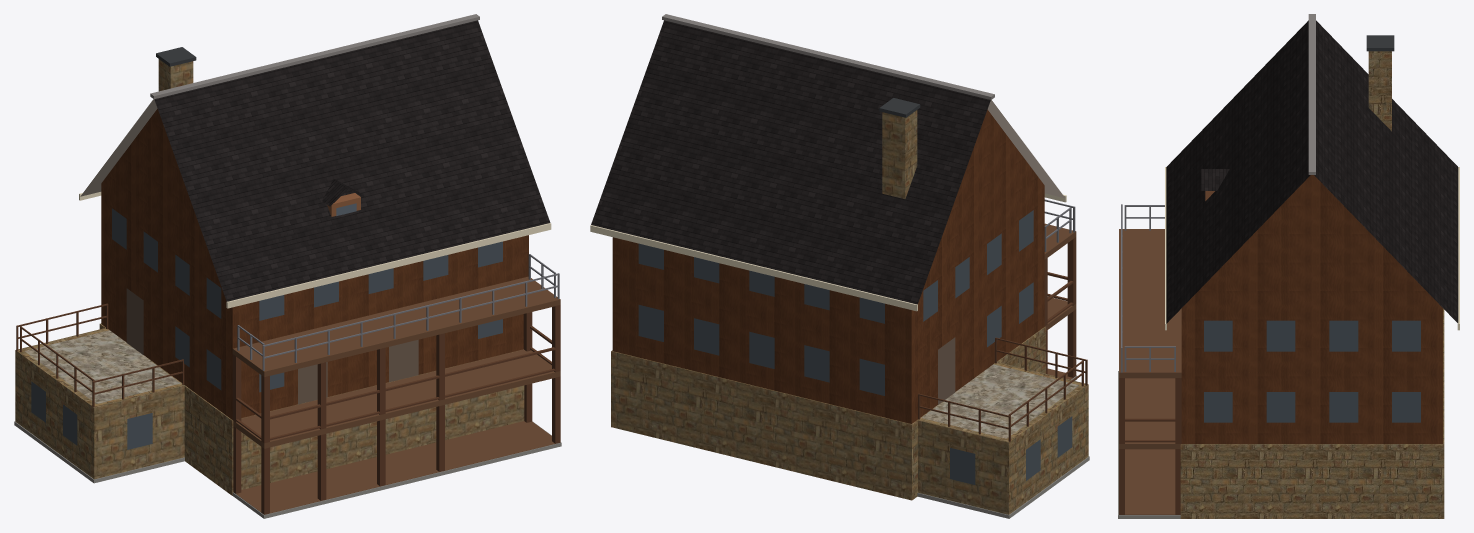
File: rw-timber-lodge.towns-v1.lod1.glb
3 views of the same model, side by side, from view 1: azimuth 30°, elevation 25°; view 2: azimuth 150°, elevation 25°; view 3: azimuth 270°, elevation 25° (orthographic).
Visible parts, largest first — view 1: rw-timber-lodge; view 2: rw-timber-lodge; view 3: rw-timber-lodge.
Part boxes in pixels (<box>): rw-timber-lodge: <box>14,14,561,518</box>; rw-timber-lodge: <box>590,14,1089,518</box>; rw-timber-lodge: <box>1118,14,1459,518</box>.
Bounding box in the file's own units: 17.68 × 14.94 × 13.07.
Materials: 5 (4 with a texture image).
